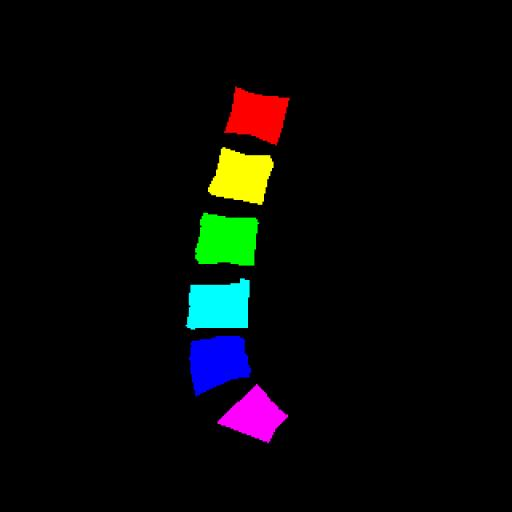L1: (225, 87, 289, 144)
L2: (208, 147, 271, 204)
L3: (195, 213, 258, 266)
L4: (186, 278, 250, 330)
L5: (191, 336, 250, 396)
S1: (218, 384, 288, 442)
